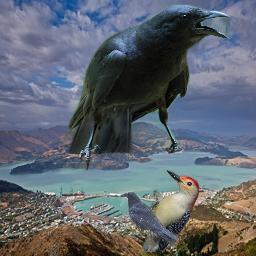Crow: (63, 4, 231, 171), (119, 191, 179, 248)
Woodpecker: (142, 170, 199, 252)
